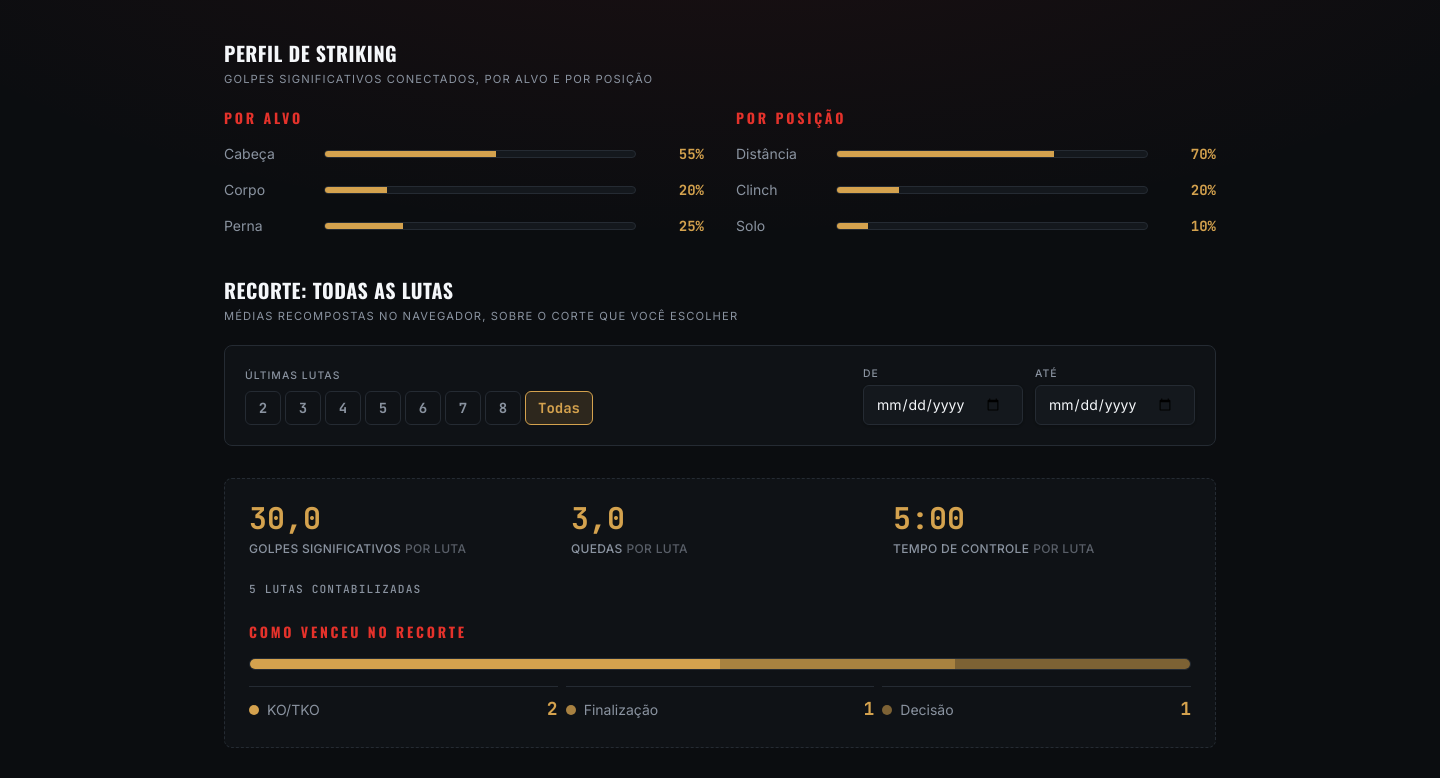
it: FighterPage — recorte de últimas N lutas › mantém os filtros e avisa quando o recorte não pega nenhuma luta
(page scrolled)
Expected: the text "5 lutas contabilizadas" is shown, left=249, top=582, right=421, bottom=596
Type "2030-01-01" into the date field named "data inicial".
click(943, 405); type("2030-01-01")  # box left=863, top=385, right=1023, bottom=425
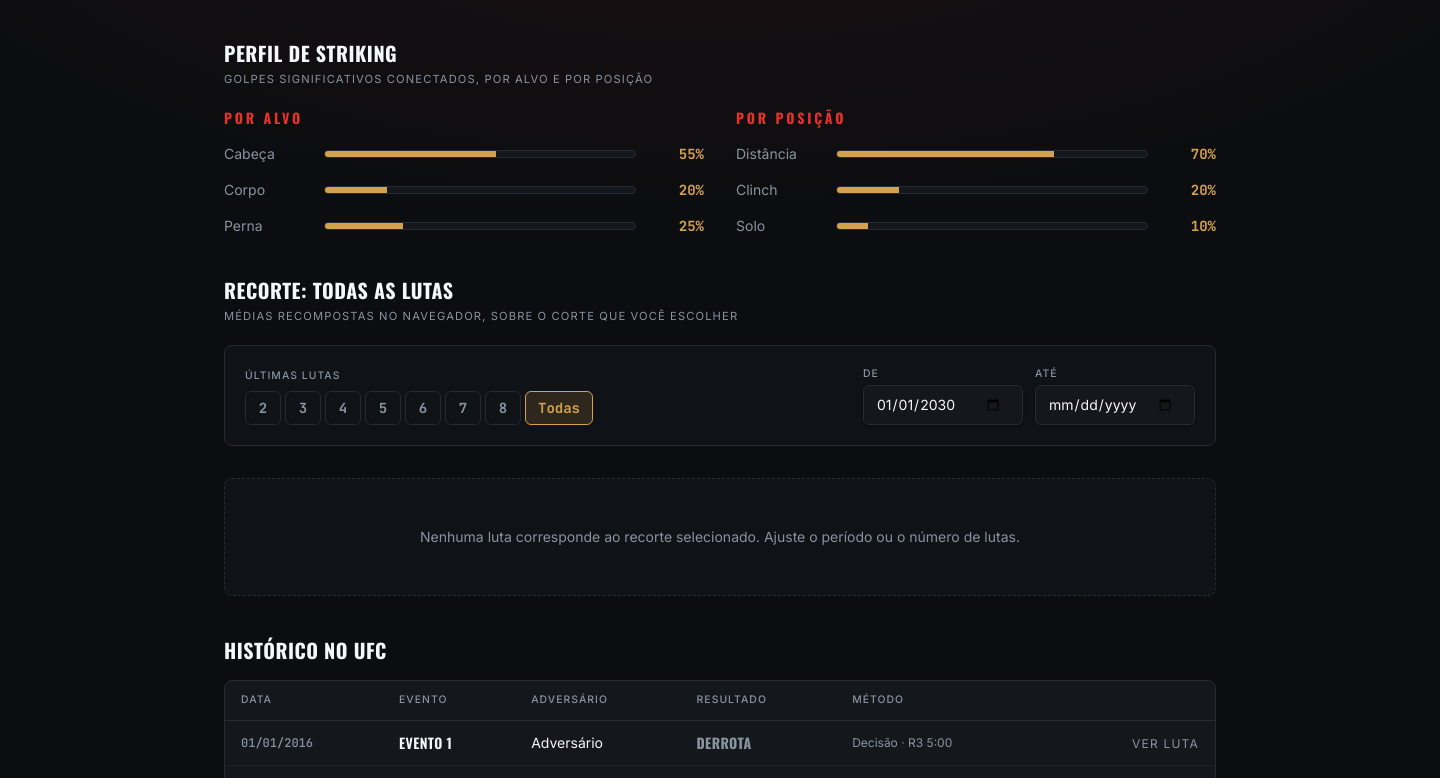
Expected: the button "Todas" is shown, left=525, top=391, right=593, bottom=425
Now the text "Nenhuma luta corresponde ao recorte" is shown, box left=420, top=528, right=1020, bottom=545
